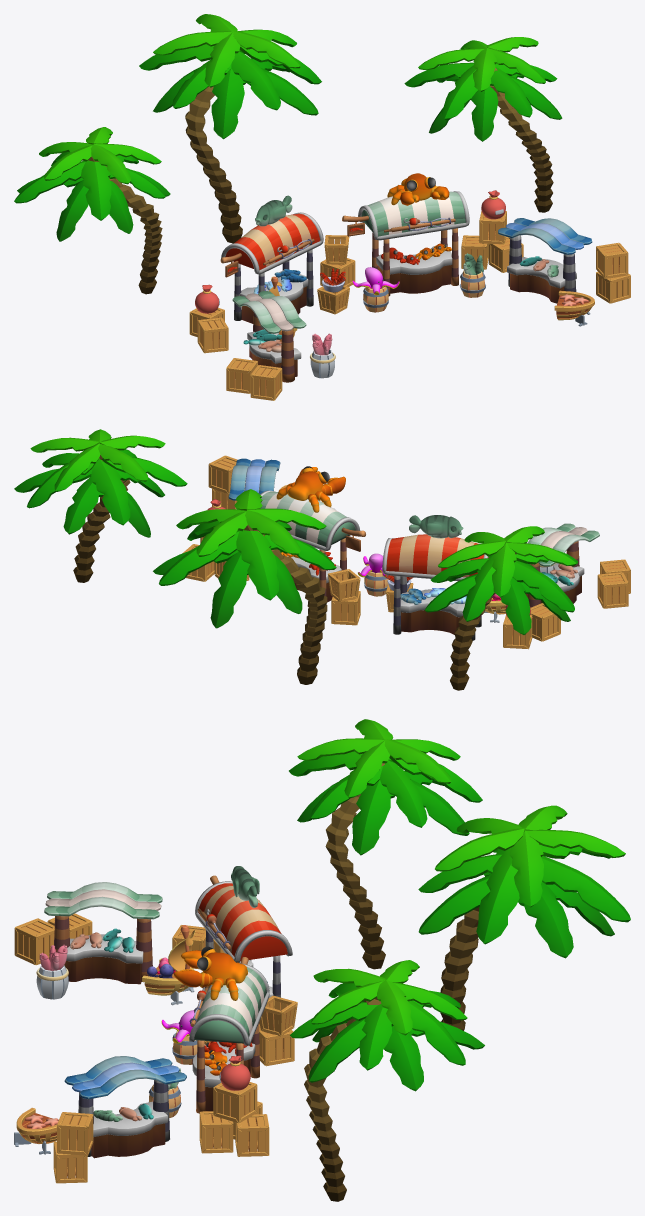
File: stylize_fish_market.glb
3 renders of one model, top to bottom at view 1: azimuth 30°, elevation 25°; view 2: azimuth 150°, elevation 25°; view 3: azimuth 270°, elevation 25°, orthographic. The views are drawn at different scales.
Parts seen in each view (by area): view 1: Cylinder.003_1, Cylinder.004_2, Cylinder.012_0, Cube.016_66, Cube.015_65, Cube.012_63, Cube.014_64, Cylinder.002_33, Cube.055_19, Cube.023_14, Cube.050_15, Cube.056_20 (+10 smaller); view 2: Cylinder.003_1, Cylinder.004_2, Cylinder.012_0, Cube.015_65, Cube.016_66, Cube.014_64, Cube.012_63, Cube.056_20, Cylinder.002_33, Cube.050_15, Cube.053_18, Cube.023_14 (+4 smaller); view 3: Cylinder.003_1, Cylinder.012_0, Cylinder.004_2, Cube.016_66, Cube.014_64, Cube.012_63, Cube.015_65, Cube_21, Cube.023_14, Cube.055_19, Cube.021_12, Cube.020_11 (+8 smaller).
Boxes of the visible parts, x1=… form: Cylinder.003_1: x1=139, y1=14, x2=321, y2=243; Cylinder.004_2: x1=404, y1=37, x2=562, y2=212; Cylinder.012_0: x1=14, y1=127, x2=170, y2=294; Cube.016_66: x1=342, y1=173, x2=469, y2=296; Cube.015_65: x1=220, y1=195, x2=323, y2=323; Cube.012_63: x1=498, y1=218, x2=592, y2=303; Cube.014_64: x1=232, y1=291, x2=306, y2=382; Cylinder.002_33: x1=352, y1=267, x2=399, y2=312; Cube.055_19: x1=250, y1=365, x2=282, y2=400; Cube.023_14: x1=596, y1=242, x2=628, y2=278; Cube.050_15: x1=197, y1=317, x2=228, y2=353; Cube.056_20: x1=226, y1=358, x2=257, y2=393; Cylinder.003_1: x1=153, y1=489, x2=336, y2=684; Cylinder.004_2: x1=14, y1=429, x2=187, y2=582; Cylinder.012_0: x1=424, y1=526, x2=577, y2=690; Cube.015_65: x1=382, y1=515, x2=488, y2=640; Cube.016_66: x1=260, y1=466, x2=365, y2=604; Cube.014_64: x1=525, y1=523, x2=599, y2=607; Cube.012_63: x1=228, y1=458, x2=280, y2=509; Cube.056_20: x1=597, y1=572, x2=628, y2=608; Cylinder.002_33: x1=358, y1=553, x2=388, y2=596; Cube.050_15: x1=530, y1=603, x2=560, y2=641; Cube.053_18: x1=328, y1=569, x2=360, y2=602; Cube.023_14: x1=208, y1=455, x2=237, y2=493; Cylinder.003_1: x1=418, y1=805, x2=630, y2=1030; Cylinder.012_0: x1=289, y1=719, x2=482, y2=969; Cylinder.004_2: x1=290, y1=960, x2=484, y2=1201; Cube.016_66: x1=173, y1=946, x2=269, y2=1113; Cube.014_64: x1=44, y1=882, x2=162, y2=984; Cube.012_63: x1=64, y1=1056, x2=186, y2=1158; Cube.015_65: x1=195, y1=866, x2=292, y2=1024; Cube_21: x1=142, y1=925, x2=195, y2=1005; Cube.023_14: x1=57, y1=1112, x2=93, y2=1155; Cube.055_19: x1=14, y1=918, x2=54, y2=965; Cube.021_12: x1=213, y1=1082, x2=257, y2=1123; Cube.020_11: x1=235, y1=1114, x2=269, y2=1156.
Bounding box in the file's own units: 27.56 × 8.9 × 21.9.
3 materials, 3 textured.
